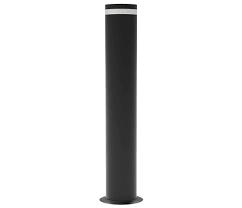Animal: (97, 3, 142, 204)
